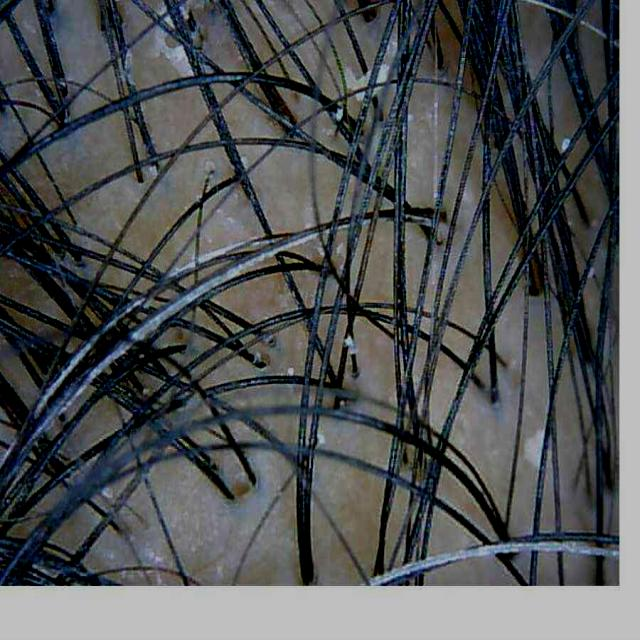d: (154, 28, 191, 74), (344, 66, 371, 101), (526, 430, 546, 467), (372, 62, 390, 96), (333, 106, 348, 125), (342, 334, 356, 350), (559, 136, 571, 151), (286, 367, 294, 378)
